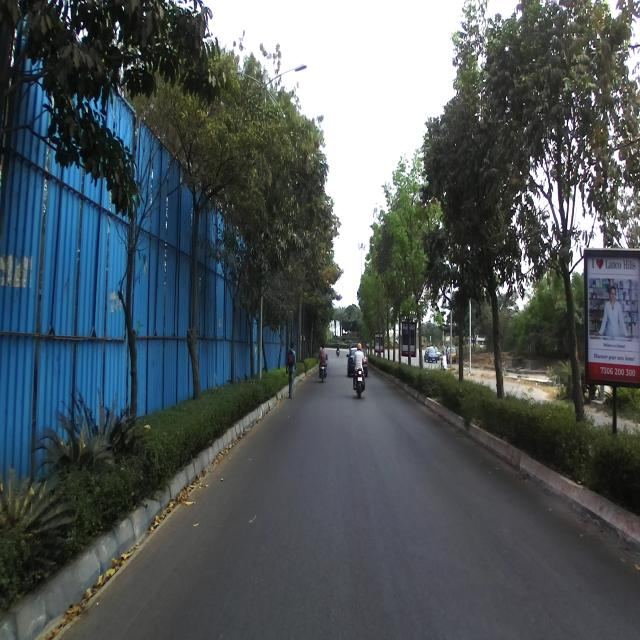tree ahead at: (118, 172, 159, 430), (547, 222, 591, 419), (183, 182, 218, 406), (483, 289, 511, 411)
